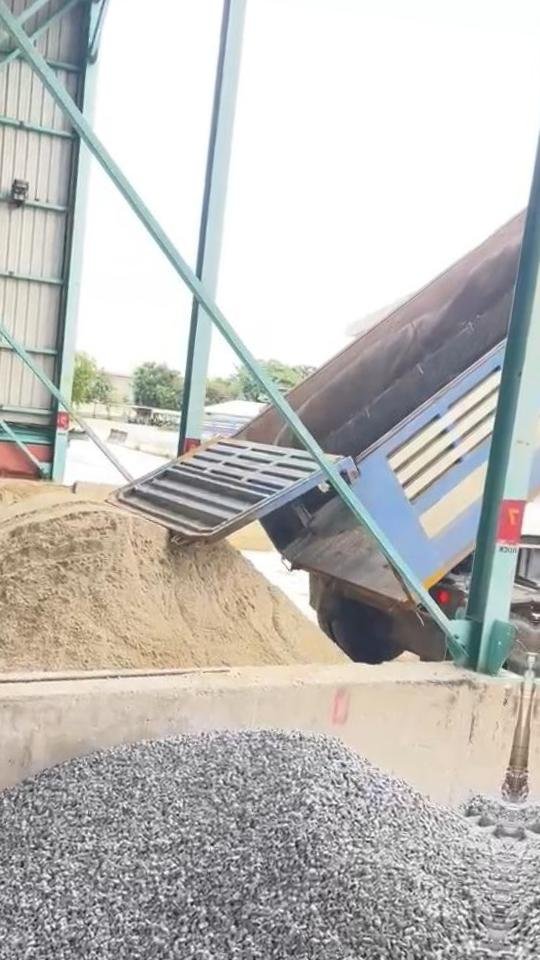gravel: (0, 732, 502, 960), (465, 795, 512, 852)
sand: (0, 491, 344, 672), (0, 482, 21, 525)
